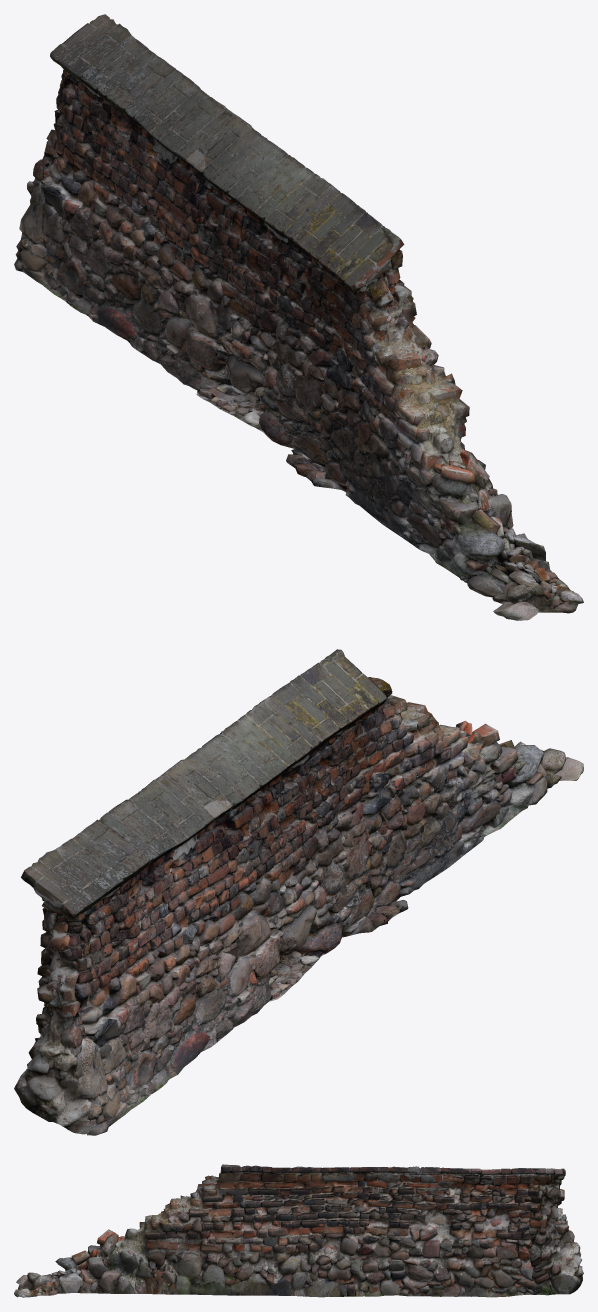
Rendered from sm_Wall_01_03.fbx.
3 views of the same model, one above another, from view 1: azimuth 30°, elevation 25°; view 2: azimuth 150°, elevation 25°; view 3: azimuth 270°, elevation 25° (orthographic). The views are drawn at different scales.
Visible parts, largest first — view 1: sm_Wall_01_03_LOD0; view 2: sm_Wall_01_03_LOD0; view 3: sm_Wall_01_03_LOD0.
Boxes of the visible parts, left/top/right/bottom form: sm_Wall_01_03_LOD0: left=14, top=14, right=583, bottom=620; sm_Wall_01_03_LOD0: left=14, top=649, right=583, bottom=1135; sm_Wall_01_03_LOD0: left=14, top=1164, right=583, bottom=1297.
Bounding box in the file's own units: 79.37 × 754 × 199.
